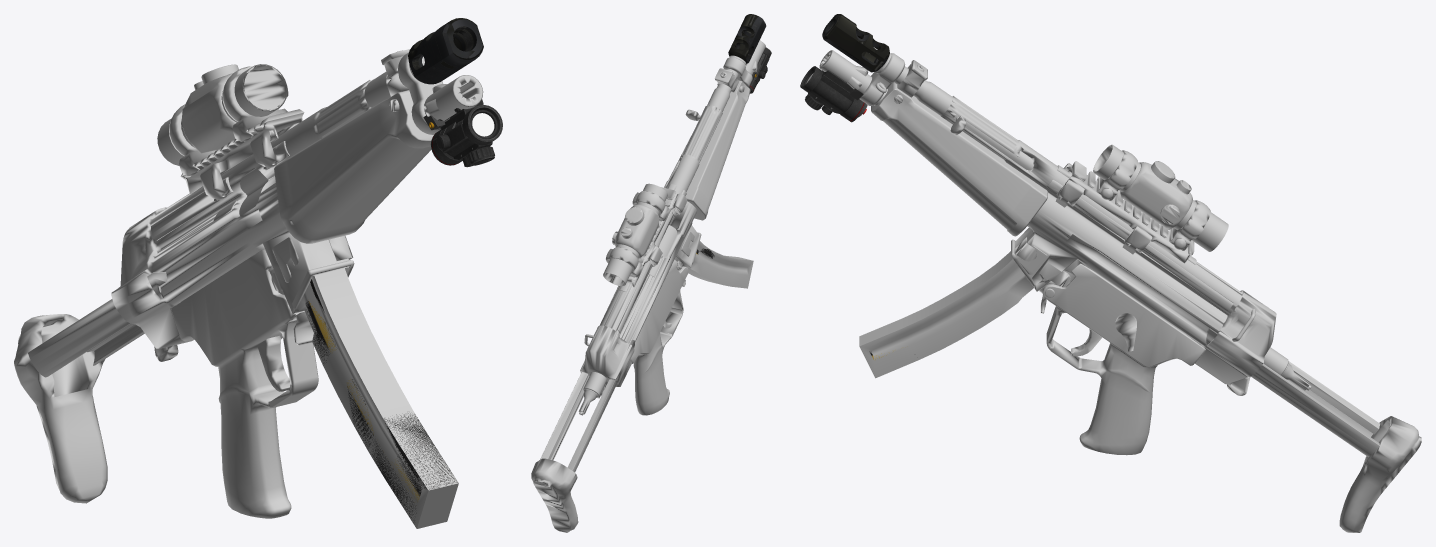
Rendered from mdlSMGPickup Variant.fbx.
3 views of the same model, side by side, from view 1: azimuth 30°, elevation 25°; view 2: azimuth 150°, elevation 25°; view 3: azimuth 270°, elevation 25° (orthographic). The views are drawn at different scales.
Visible parts, largest first — view 1: Model, 24_+Additions|Magazine.magazine_0.4_0_0, ExtendedMag, 24_-Upgrades|Barrel.extensionr_0.3_0_0, LaserSight; view 2: Model, 24_+Additions|Magazine.magazine_0.4_0_0, 24_-Upgrades|Barrel.extensionr_0.3_0_0, LaserSight; view 3: Model, 24_+Additions|Magazine.magazine_0.4_0_0, LaserSight, 24_-Upgrades|Barrel.extensionr_0.3_0_0.
Boxes of the visible parts, x1=… form: Model: x1=14, y1=49, x2=483, y2=518; 24_+Additions|Magazine.magazine_0.4_0_0: x1=298, y1=268, x2=458, y2=528; ExtendedMag: x1=305, y1=279, x2=457, y2=522; 24_-Upgrades|Barrel.extensionr_0.3_0_0: x1=408, y1=18, x2=483, y2=84; LaserSight: x1=431, y1=99, x2=502, y2=167; Model: x1=531, y1=40, x2=765, y2=532; 24_+Additions|Magazine.magazine_0.4_0_0: x1=688, y1=241, x2=753, y2=288; 24_-Upgrades|Barrel.extensionr_0.3_0_0: x1=728, y1=14, x2=766, y2=63; LaserSight: x1=749, y1=47, x2=771, y2=93; Model: x1=819, y1=50, x2=1421, y2=532; 24_+Additions|Magazine.magazine_0.4_0_0: x1=859, y1=251, x2=1033, y2=378; LaserSight: x1=800, y1=66, x2=865, y2=122; 24_-Upgrades|Barrel.extensionr_0.3_0_0: x1=822, y1=14, x2=889, y2=72.
Bounding box in the file's own units: 34.94 × 292 × 319.
